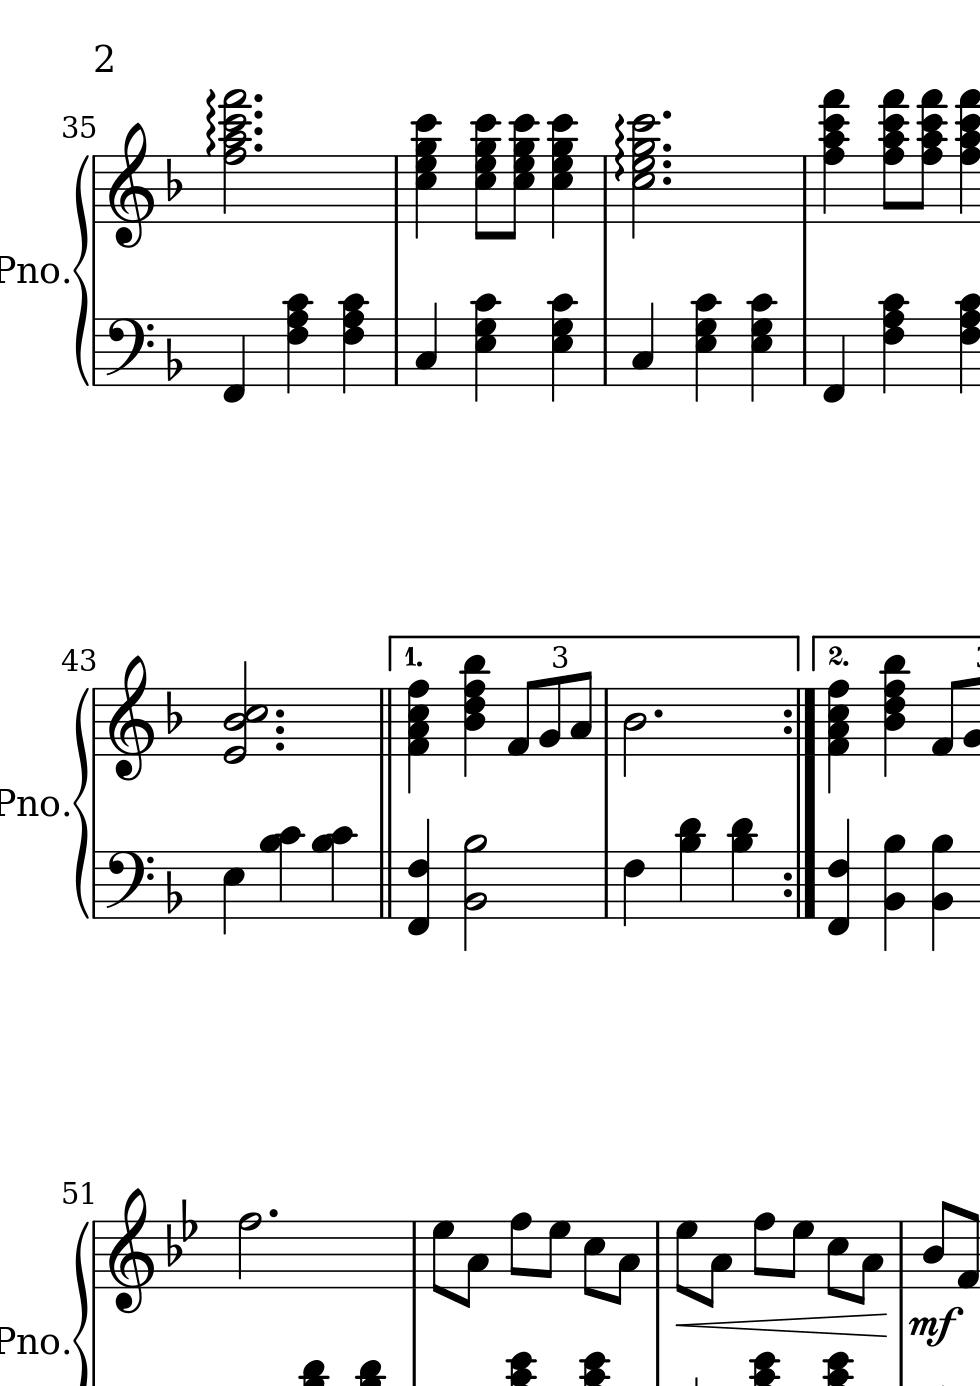1: (80, 1179, 95, 1207)
2: (92, 42, 115, 74)
2_2_9: (462, 834, 488, 951)
2_4: (622, 687, 647, 778)
2_4th: (218, 86, 247, 225)
2_8: (237, 1210, 261, 1289)
2_th: (223, 661, 269, 765)
3: (60, 113, 78, 141), (78, 647, 97, 673)
4: (62, 646, 78, 674)
4_-1: (221, 316, 247, 405), (821, 316, 846, 405)
4_-1_6: (826, 818, 852, 937), (406, 819, 432, 936)
4_2_9: (929, 831, 953, 951), (882, 834, 906, 953)
4_3: (414, 300, 439, 387), (631, 300, 654, 386)
4_4th: (817, 83, 850, 221), (457, 652, 490, 780), (951, 84, 980, 225), (546, 113, 578, 240), (410, 112, 441, 238), (879, 651, 909, 776), (823, 676, 853, 796), (404, 678, 433, 793)
4_5: (221, 850, 245, 936)
4_6: (622, 850, 646, 927)
4_9_11: (673, 817, 705, 922), (727, 815, 758, 920)
4_th: (690, 290, 720, 405), (469, 290, 498, 404), (746, 288, 774, 405), (545, 290, 574, 404), (877, 291, 907, 394), (283, 290, 312, 394), (337, 291, 365, 394), (953, 290, 980, 394)
5: (78, 113, 97, 141), (62, 1178, 78, 1207)
8_1: (505, 678, 536, 758), (930, 678, 960, 759), (957, 1208, 978, 1289)
8_2: (537, 676, 561, 757), (962, 679, 978, 759)
8_3: (459, 1220, 489, 1309), (610, 1220, 640, 1308), (854, 1220, 883, 1306), (703, 1220, 732, 1309), (568, 670, 592, 757)
8_4: (920, 1199, 952, 1289)
8_4th: (915, 82, 952, 224), (877, 86, 910, 221), (506, 115, 540, 240), (468, 113, 501, 242)
8_5: (824, 1220, 848, 1299), (581, 1220, 605, 1299)
8_7: (673, 1220, 699, 1301), (784, 1220, 813, 1289), (541, 1220, 570, 1289), (431, 1220, 455, 1299)
8_8: (751, 1211, 776, 1289), (508, 1211, 532, 1289)
B_F: (165, 1196, 199, 1268)
Brace: (74, 153, 91, 386), (72, 1217, 91, 1386)
Crescendo_hairpin: (675, 1312, 889, 1337)
Double_barline: (374, 850, 396, 919), (375, 688, 396, 756)
Fclef: (102, 317, 154, 388), (103, 850, 154, 922)
Flat: (163, 688, 185, 736), (163, 335, 183, 384), (163, 156, 183, 204), (164, 869, 183, 916)
Gclef: (106, 654, 154, 784), (106, 1186, 153, 1315), (107, 121, 153, 250)
Pno: (1, 252, 60, 290), (1, 785, 60, 822), (1, 1324, 59, 1357)
Prima_volta: (385, 631, 806, 673)
RightRepeatSign: (780, 687, 818, 758), (780, 850, 818, 920)
Seconda_volta: (807, 632, 980, 671)
Single_barline: (597, 850, 615, 918), (596, 318, 613, 385), (598, 689, 615, 756), (388, 156, 405, 222), (797, 156, 813, 222), (388, 318, 404, 386), (406, 1221, 422, 1288), (650, 1221, 666, 1288), (597, 156, 613, 223), (797, 319, 812, 385), (893, 1221, 908, 1288), (88, 1221, 102, 1289), (88, 156, 102, 223), (88, 852, 102, 918), (88, 319, 102, 385), (88, 688, 101, 756)
dot: (650, 705, 666, 722), (659, 107, 673, 124), (272, 721, 287, 735), (660, 140, 675, 154), (659, 157, 673, 170), (659, 174, 673, 187), (252, 91, 265, 105), (273, 706, 285, 719), (266, 1207, 279, 1220), (251, 109, 265, 121), (251, 124, 265, 136), (251, 141, 265, 153), (274, 739, 286, 751)
mf: (906, 1306, 963, 1349)
